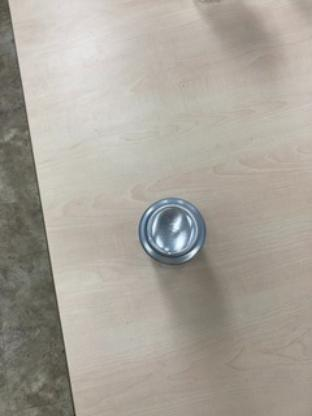Can: (137, 194, 207, 268)
